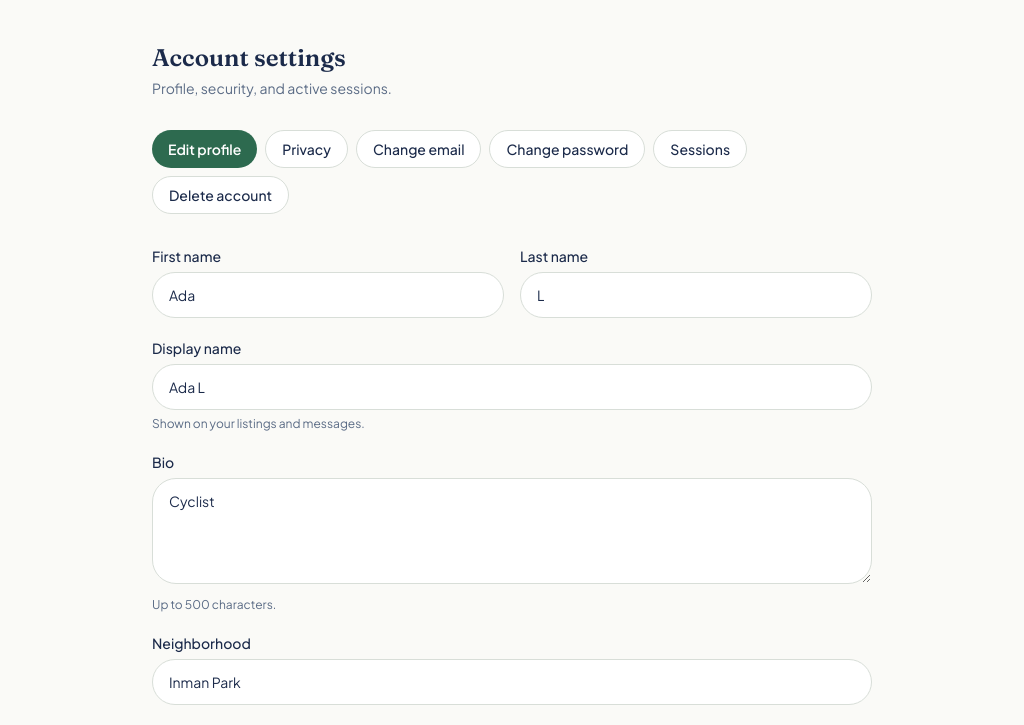
Test: AccountSettings › saves profile changes and reports success
Replace the text in the field labelled "Display name" with "Ada Lovelace" at [512, 387], box [152, 364, 872, 410]
(page scrolled)
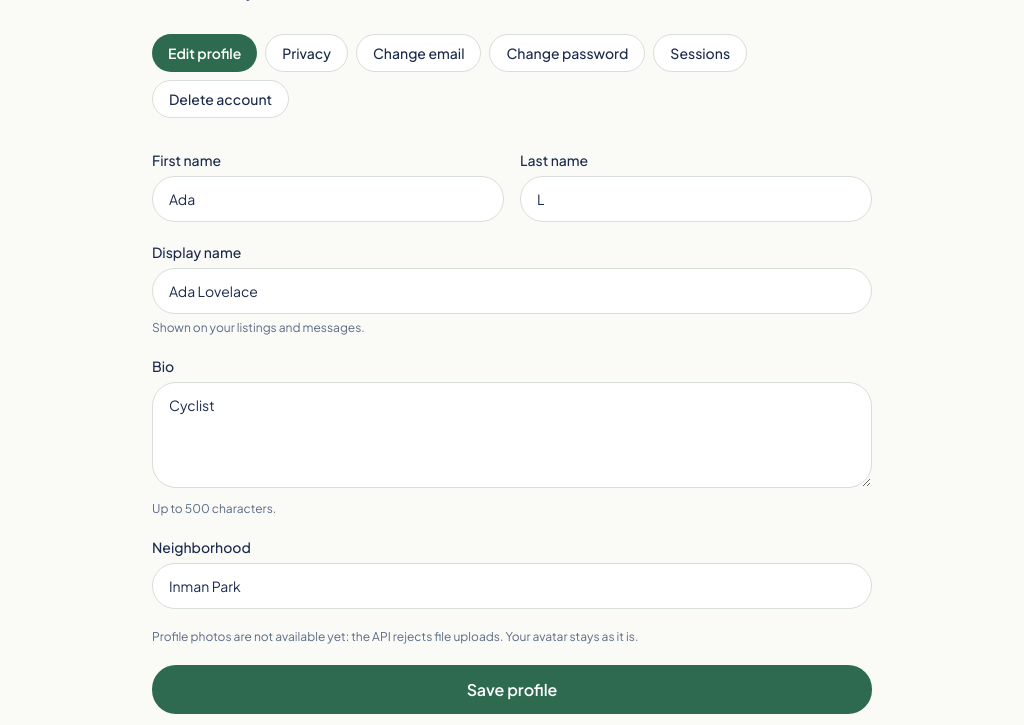
Click the button "Save profile".
click(512, 689)  # box [152, 665, 872, 714]
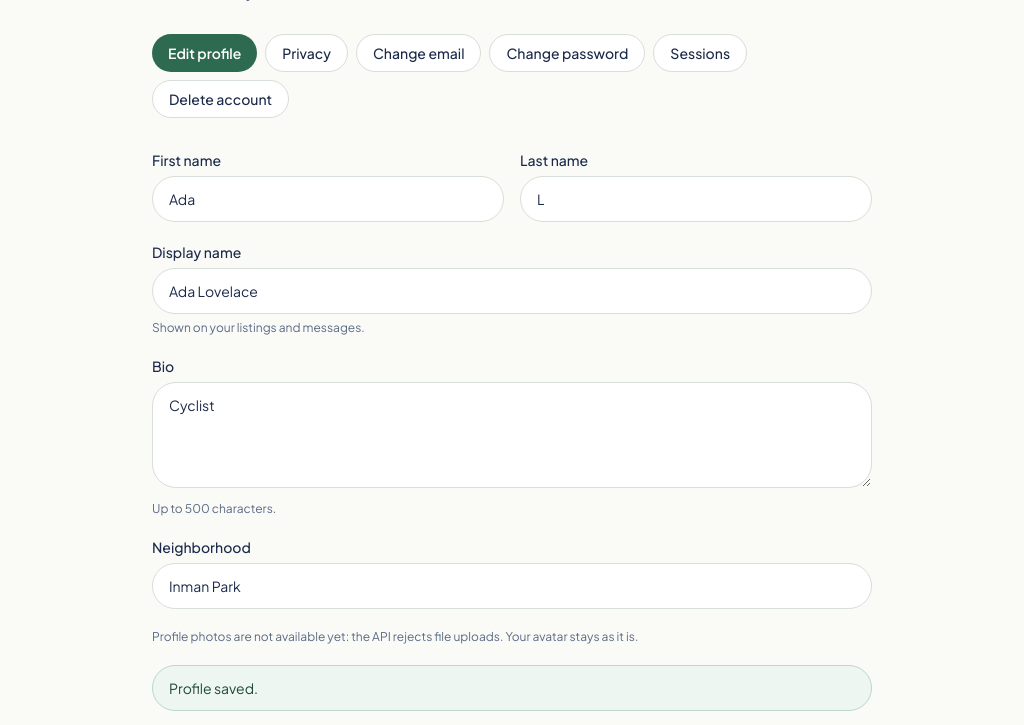
Now the text "Profile saved." is shown, box [152, 665, 872, 711]
